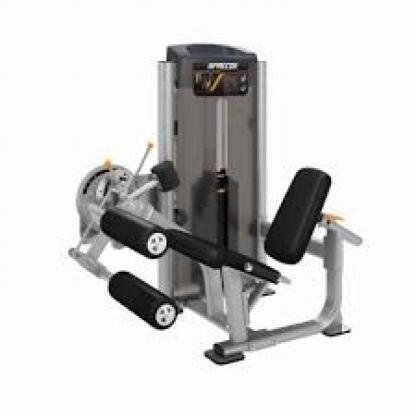leg extension: (60, 40, 373, 381)
